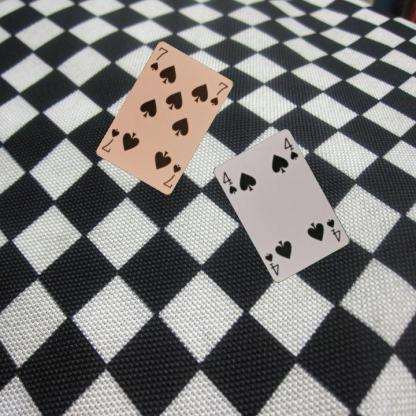4s: (324, 216, 342, 243), (220, 169, 238, 195)
7s: (160, 161, 183, 190), (147, 44, 170, 72)
